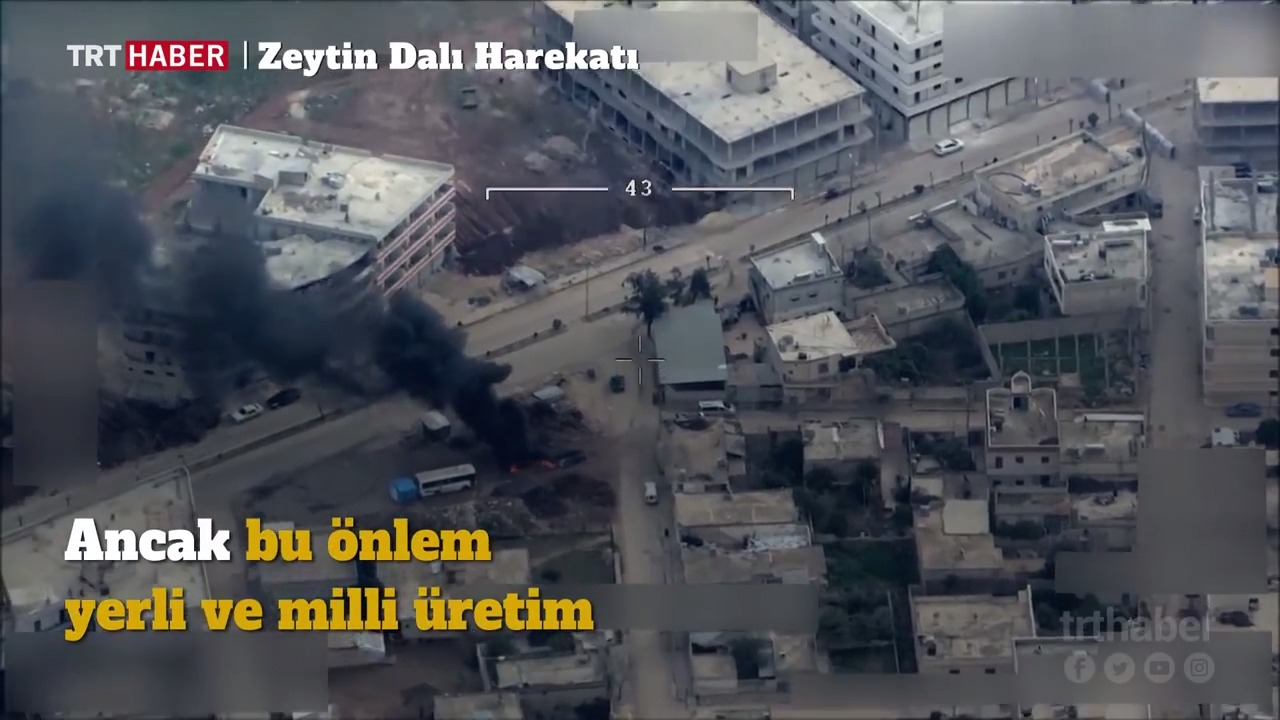arac: (411, 457, 491, 508), (931, 126, 977, 164), (261, 378, 308, 409), (604, 362, 634, 406), (1220, 395, 1267, 423), (227, 390, 264, 425), (642, 473, 662, 507)
